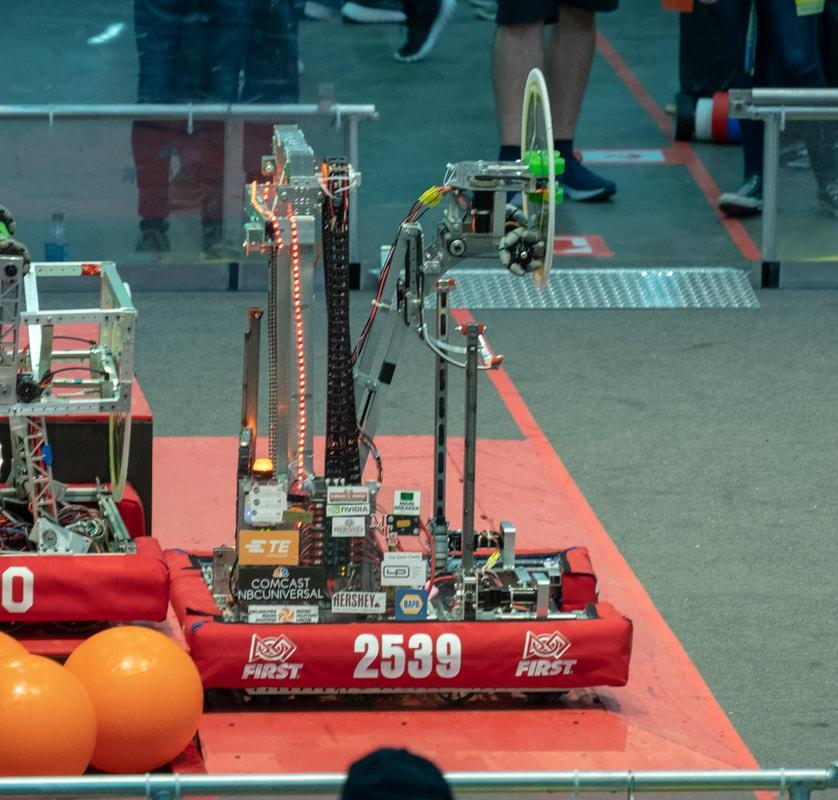robot: (164, 83, 642, 710), (0, 178, 170, 628)
